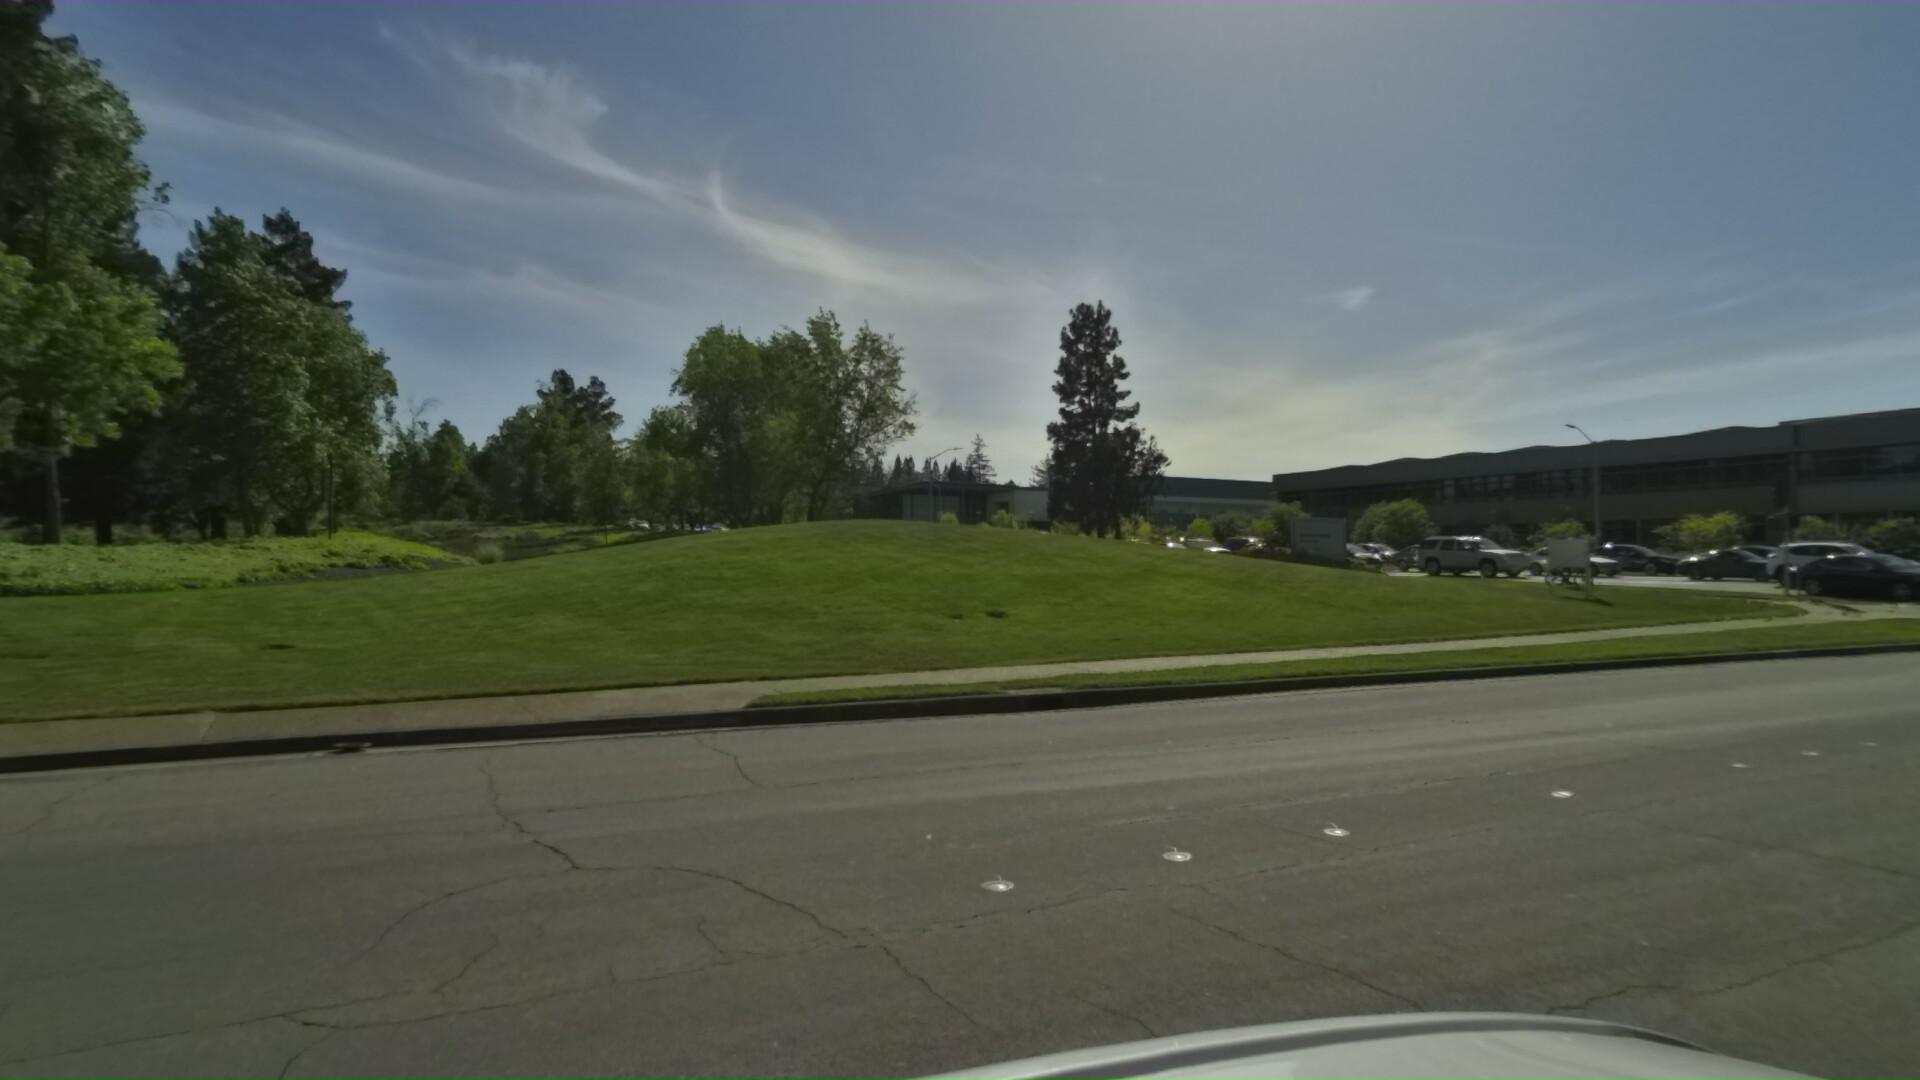bicycle: (1534, 525, 1601, 582)
car: (1754, 527, 1920, 587), (1780, 547, 1920, 597), (1662, 535, 1812, 582), (1406, 524, 1536, 575), (1515, 535, 1633, 575), (1849, 529, 1920, 582), (1303, 533, 1391, 567), (1870, 533, 1920, 578), (1164, 529, 1233, 558)
